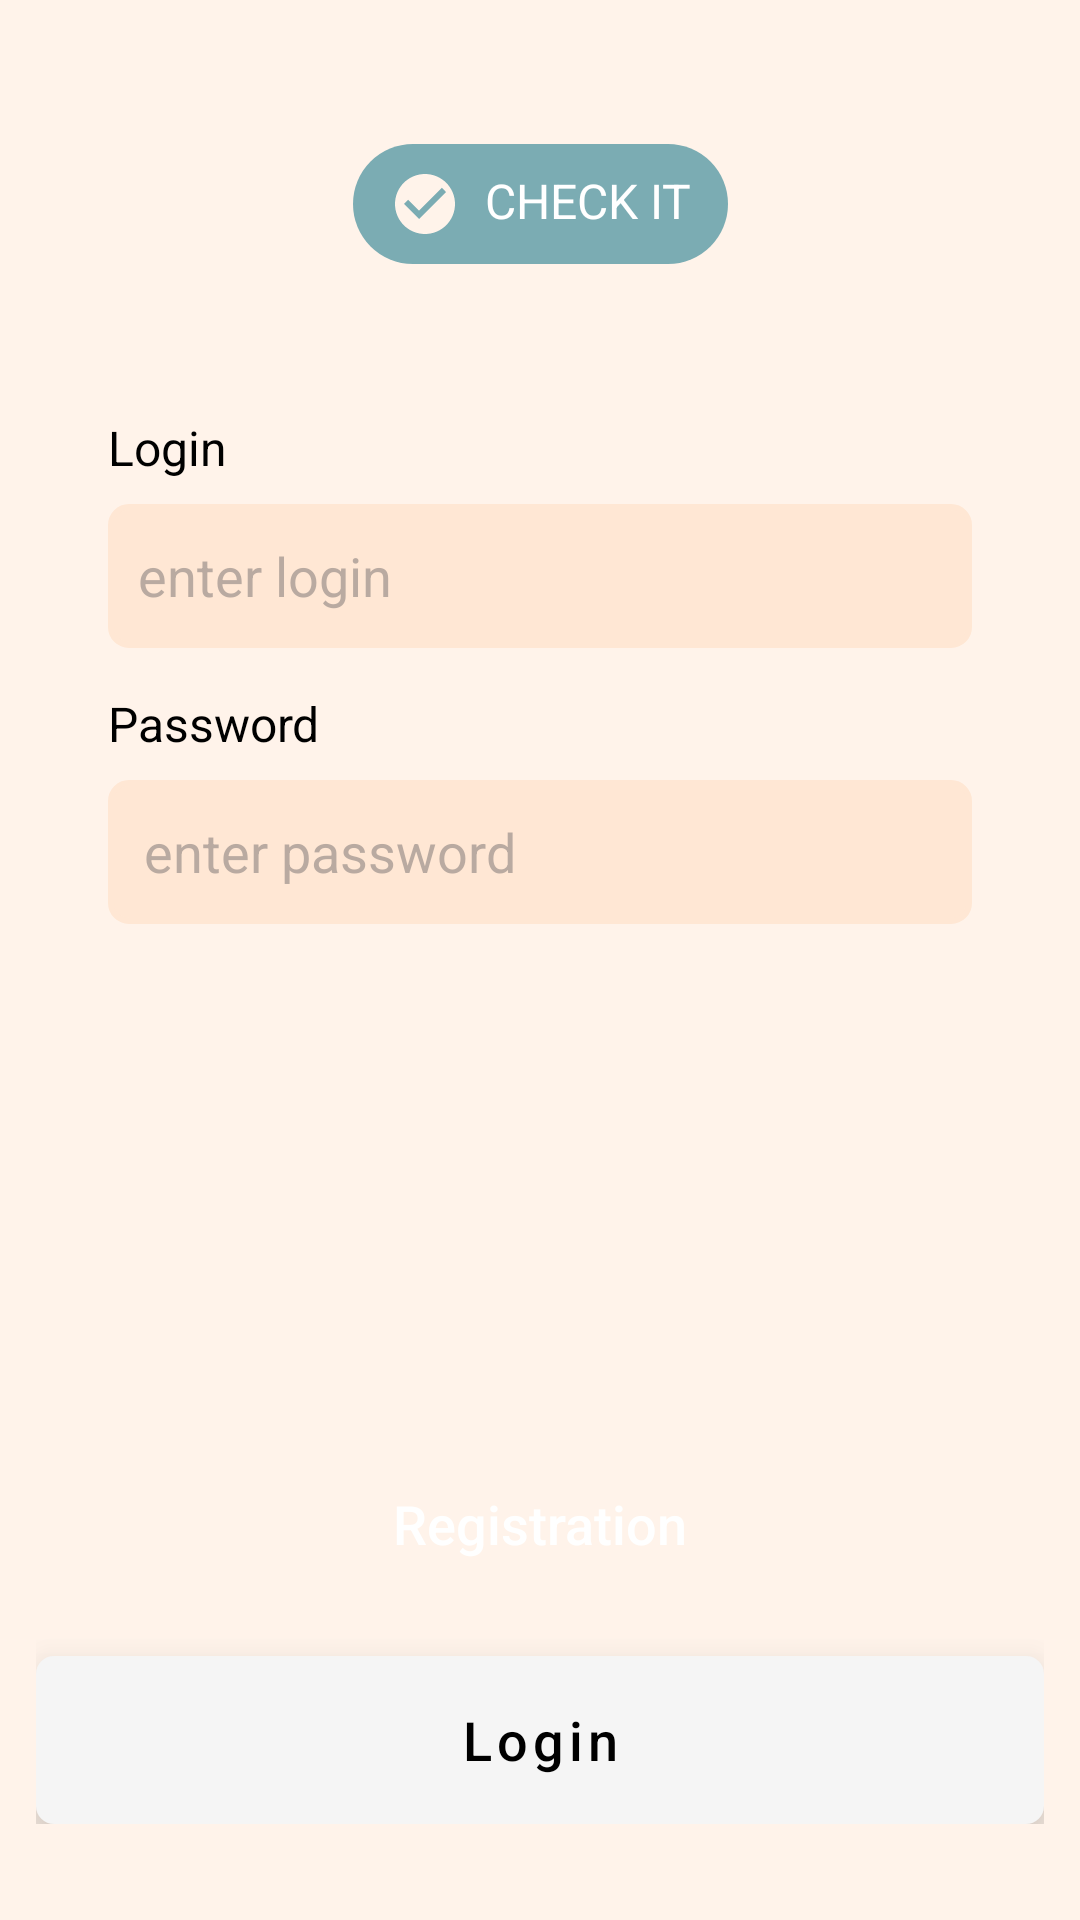

Where icons sit on this 1080 x 1920 app screen, as [x1,y1,x2,y2]:
check circle: [395,174,455,234]
